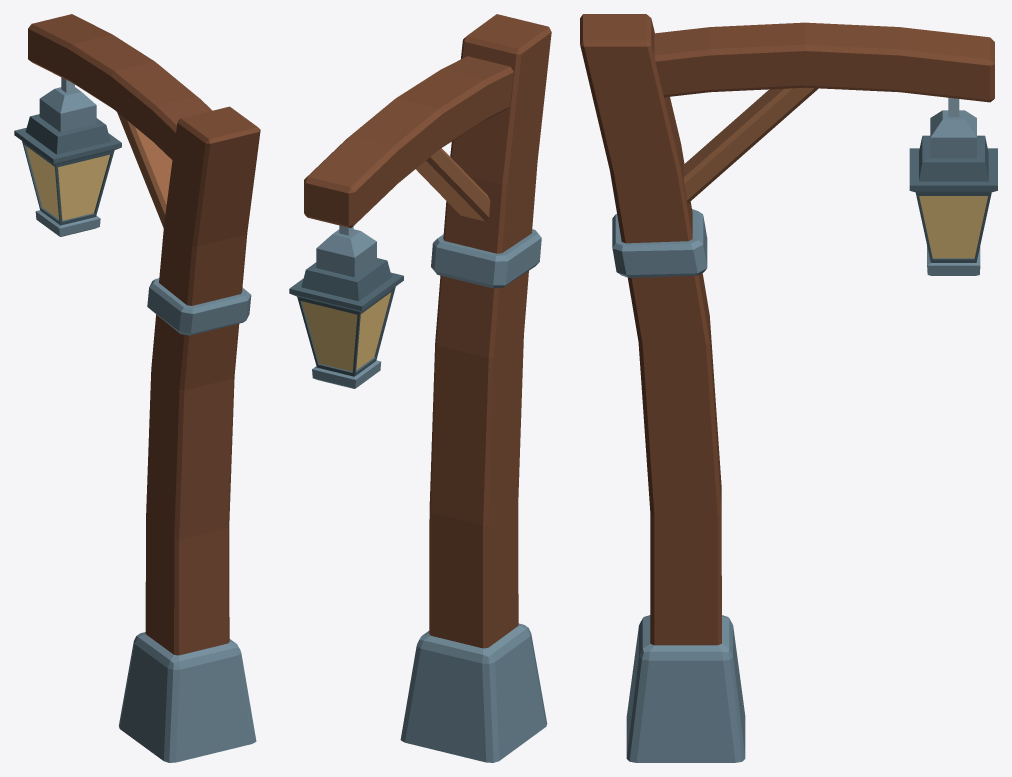
The model's file is Lantern_Street.fbx.
3 renders of one model, left to right at view 1: azimuth 30°, elevation 25°; view 2: azimuth 150°, elevation 25°; view 3: azimuth 270°, elevation 25°, orthographic. The views are drawn at different scales.
Visible parts, largest first — view 1: Lantern_Street; view 2: Lantern_Street; view 3: Lantern_Street.
Part boxes in pixels (box(x1,y1,x2,y2)): Lantern_Street: box(14, 14, 260, 762); Lantern_Street: box(289, 14, 551, 762); Lantern_Street: box(580, 14, 997, 762).
Size of the model in its own units: 0.5 by 1.76 by 3.3.
